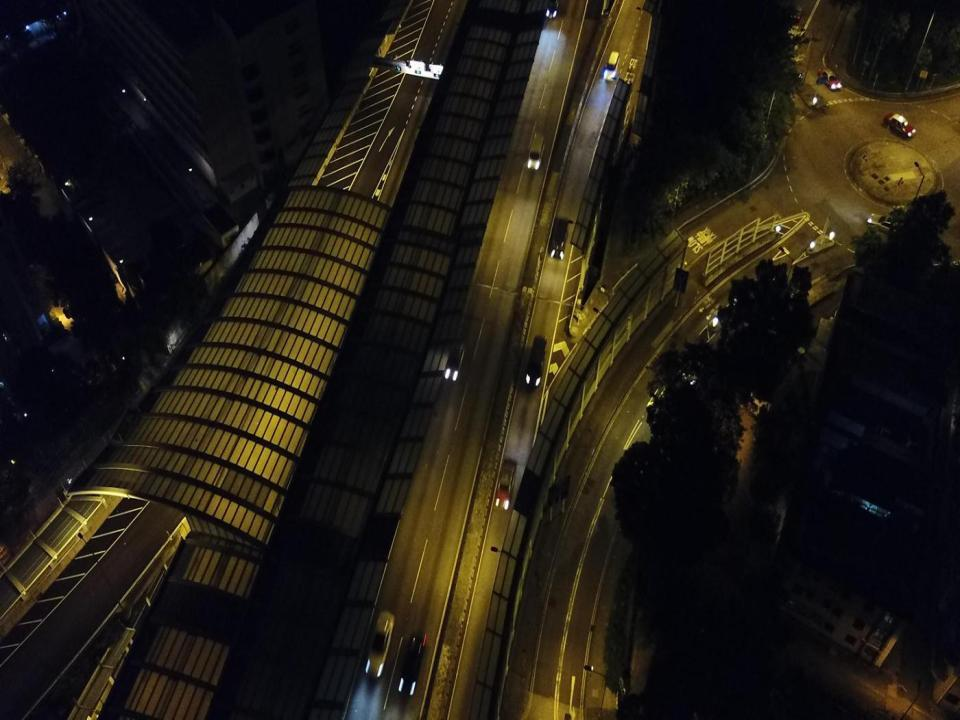car: (363, 608, 395, 679), (398, 630, 429, 697), (524, 333, 548, 389), (494, 459, 517, 510), (441, 337, 466, 383), (882, 110, 917, 139), (866, 212, 904, 238), (549, 216, 569, 260), (527, 130, 545, 172), (817, 66, 843, 91), (602, 49, 620, 82), (788, 2, 804, 22), (544, 0, 560, 19)
